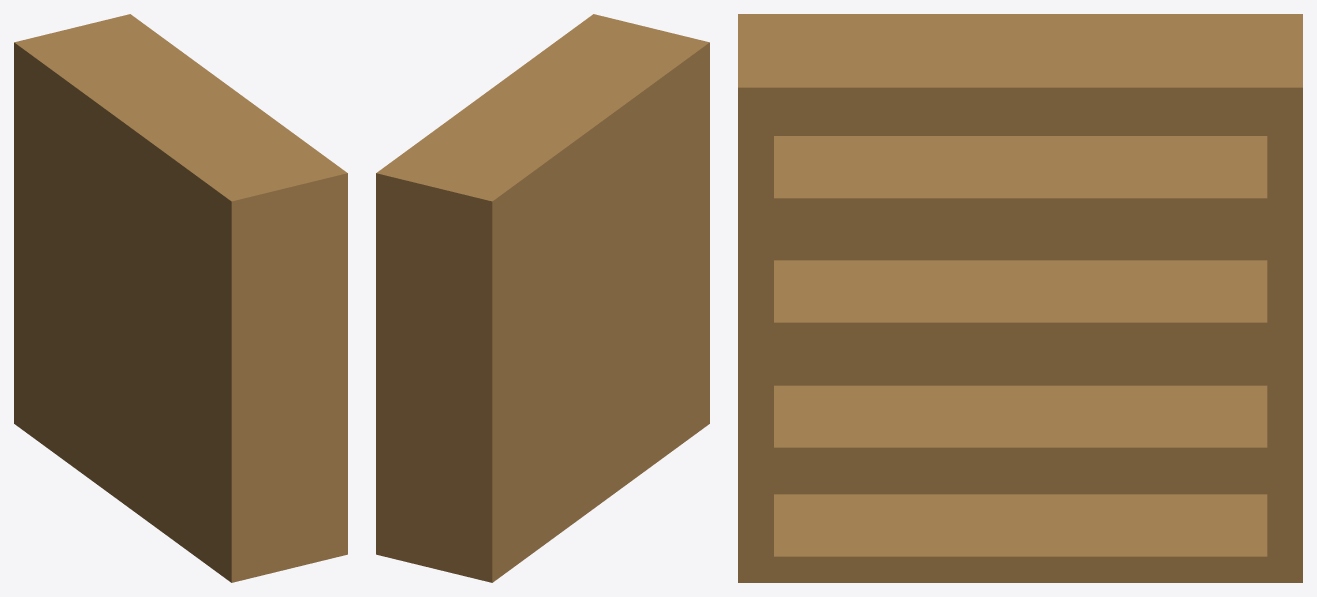
Rendered from room_shelf.fbx.
The picture shows the model from 3 angles, left to right: view 1: azimuth 30°, elevation 25°; view 2: azimuth 150°, elevation 25°; view 3: azimuth 270°, elevation 25°; orthographic projection. The views are drawn at different scales.
Visible parts, largest first — view 1: pCube2; view 2: pCube2; view 3: pCube2.
Boxes of the visible parts, box(x1,y1,x2,y2) form: pCube2: box(14, 14, 347, 582); pCube2: box(376, 14, 709, 582); pCube2: box(738, 14, 1302, 582).
Size of the model in its own units: 2.83 by 8.86 by 9.16.
